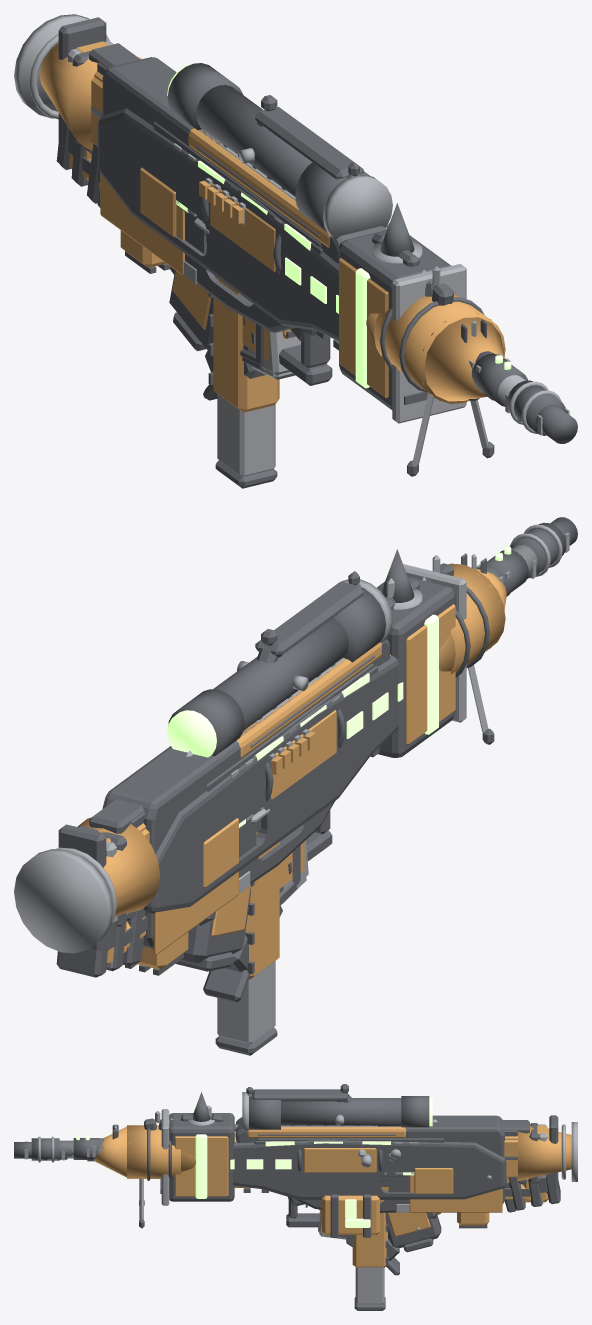
Rendered from weapons_authored.glb.
3 renders of one model, top to bottom at view 1: azimuth 30°, elevation 25°; view 2: azimuth 150°, elevation 25°; view 3: azimuth 270°, elevation 25°, orthographic. The views are drawn at different scales.
Visible parts, largest first — view 1: weapon_concussion, weapon_rpg, weapon_boltsniper, weapon_needler, weapon_uzi, weapon_ghammer, weapon_lmg, weapon_magnum, weapon_m4, weapon_dmr, weapon_rifle; view 2: weapon_concussion, weapon_rpg, weapon_needler, weapon_boltsniper, weapon_ghammer, weapon_uzi, weapon_lmg, weapon_magnum, weapon_rifle, weapon_m4, weapon_dmr, weapon_energyshotgun; view 3: weapon_concussion, weapon_needler, weapon_rpg, weapon_boltsniper, weapon_ghammer, weapon_uzi, weapon_lmg, weapon_magnum, weapon_m4, weapon_rifle, weapon_dmr, weapon_energyshotgun (+1 smaller).
Boxes of the visible parts, x1=… form: weapon_concussion: x1=98, y1=108, x2=338, y2=341; weapon_rpg: x1=14, y1=14, x2=505, y2=403; weapon_boltsniper: x1=58, y1=17, x2=565, y2=435; weapon_needler: x1=100, y1=57, x2=386, y2=332; weapon_uzi: x1=120, y1=122, x2=332, y2=488; weapon_ghammer: x1=339, y1=203, x2=466, y2=423; weapon_lmg: x1=68, y1=41, x2=527, y2=476; weapon_magnum: x1=169, y1=271, x2=213, y2=351; weapon_m4: x1=72, y1=51, x2=510, y2=375; weapon_dmr: x1=85, y1=147, x2=577, y2=443; weapon_rifle: x1=56, y1=119, x2=493, y2=400; weapon_concussion: x1=144, y1=655, x2=403, y2=913; weapon_rpg: x1=14, y1=563, x2=506, y2=953; weapon_needler: x1=102, y1=571, x2=390, y2=954; weapon_boltsniper: x1=58, y1=522, x2=566, y2=965; weapon_ghammer: x1=376, y1=549, x2=466, y2=757; weapon_uzi: x1=125, y1=663, x2=373, y2=1055; weapon_lmg: x1=106, y1=550, x2=528, y2=922; weapon_magnum: x1=175, y1=884, x2=250, y2=971; weapon_rifle: x1=56, y1=553, x2=510, y2=1002; weapon_m4: x1=79, y1=564, x2=510, y2=926; weapon_dmr: x1=127, y1=517, x2=577, y2=921; weapon_energyshotgun: x1=123, y1=552, x2=502, y2=965; weapon_concussion: x1=230, y1=1140, x2=506, y2=1199; weapon_needler: x1=235, y1=1084, x2=504, y2=1212; weapon_rpg: x1=93, y1=1122, x2=577, y2=1207; weapon_boltsniper: x1=31, y1=1092, x2=558, y2=1202; weapon_ghammer: x1=160, y1=1092, x2=234, y2=1205; weapon_uzi: x1=257, y1=1119, x2=489, y2=1310; weapon_lmg: x1=73, y1=1114, x2=547, y2=1237; weapon_magnum: x1=384, y1=1186, x2=441, y2=1252; weapon_m4: x1=92, y1=1105, x2=541, y2=1236; weapon_rifle: x1=87, y1=1124, x2=560, y2=1275; weapon_dmr: x1=14, y1=1111, x2=526, y2=1239; weapon_energyshotgun: x1=85, y1=1135, x2=525, y2=1210.
Size of the model in its own units: 0.1491 by 0.5897 by 1.36.
